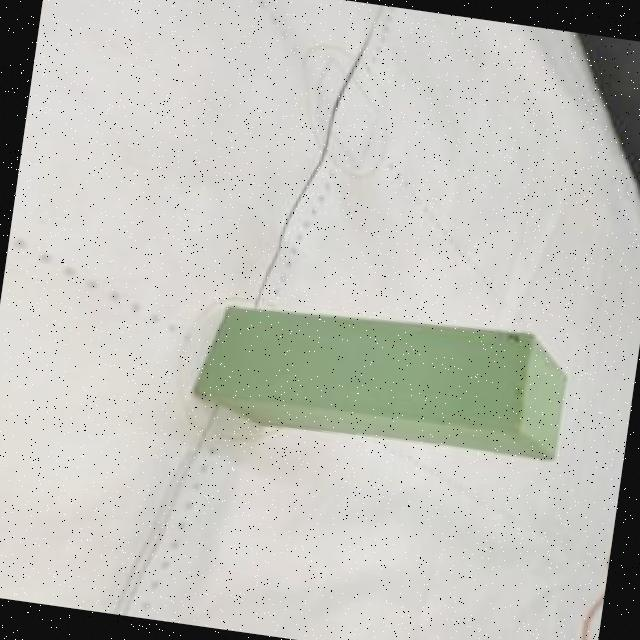greenbox: (188, 286, 576, 468)
